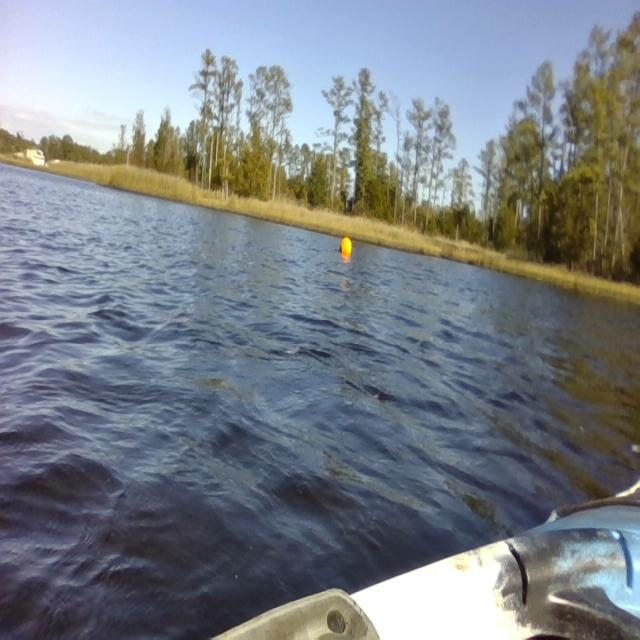Buoy: (337, 232, 353, 260)
